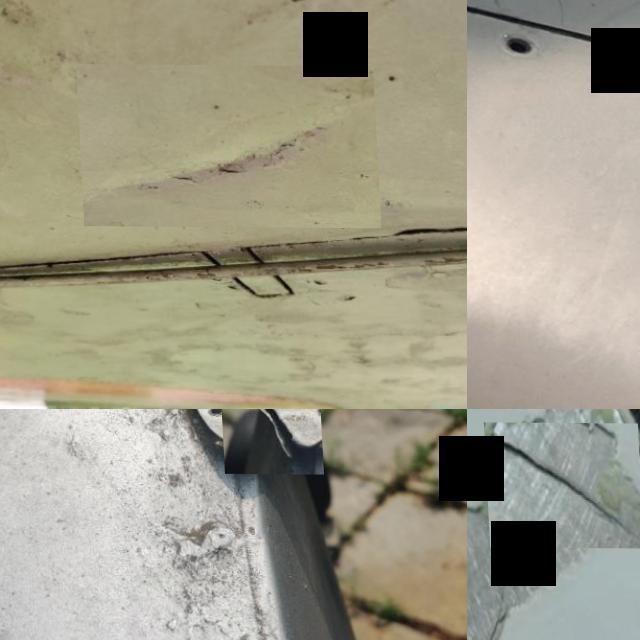Crack: (482, 423, 640, 548), (216, 409, 320, 473)
Dent: (74, 64, 378, 227)
Missing_Fastener: (499, 34, 542, 60)
